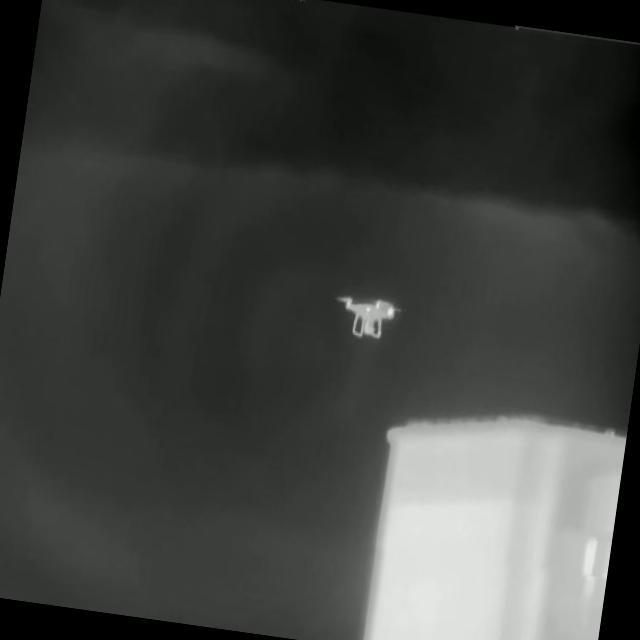DRONE: (331, 288, 408, 341)
